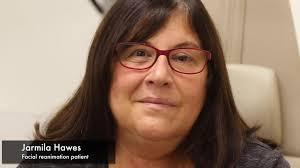normalMouth: (131, 93, 184, 115)
